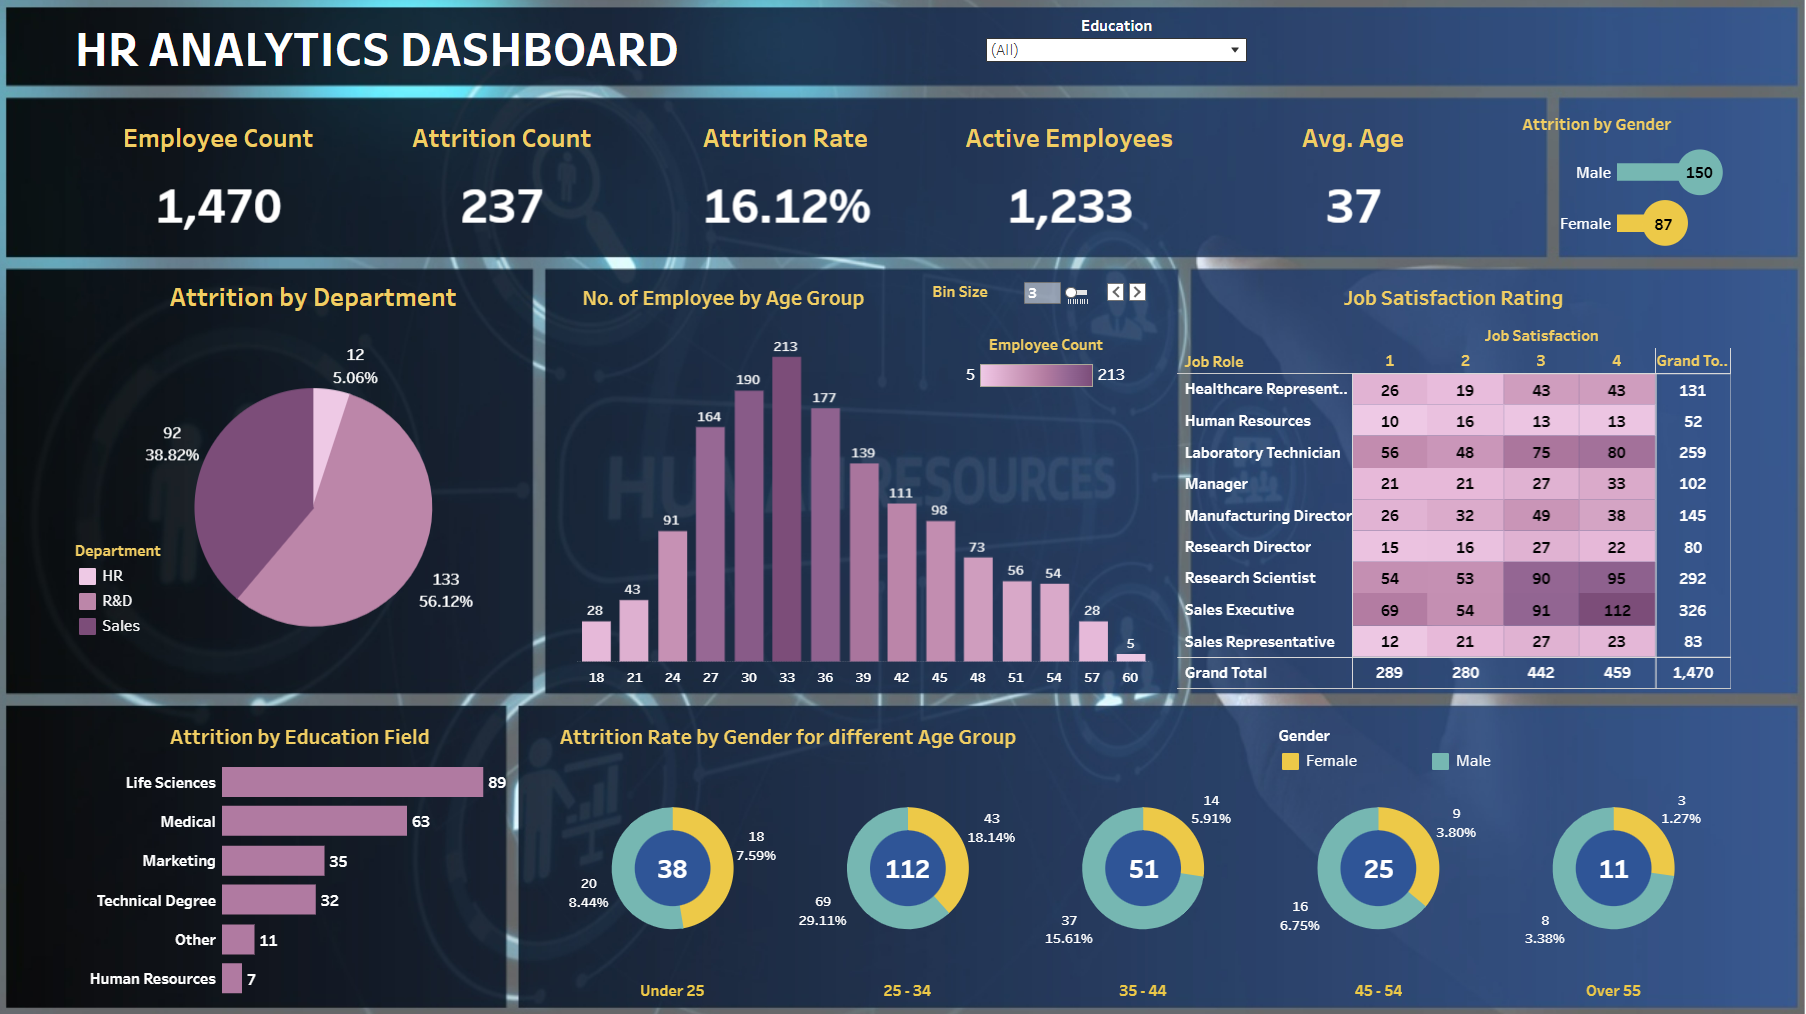

What the dashboard file says about the page in this screenshot:
{"tool":"tableau","page":{"name":"Dashboard","canvas":[1000,1000],"units":"permille","ordinal":0},"visuals":[{"type":"image","param":"Image/HR background.png","box":[5.1,10,989.9,980]},{"type":"filter","title":"Attrition by Department","param":"[federated.1hrytde1jcn6u712tr4z91f6a0fa].[none:Education:nk]","box":[543.7,28.7,137.3,63.6]},{"type":"text","box":[69.6,34.9,397.5,51.1]},{"type":"worksheet","title":"KPI","mark":"Automatic","box":[70.2,114.7,739.2,140.9]},{"type":"worksheet","title":"Attrition by Gender","mark":"Automatic","rows":["Gender"],"cols":["Calculation_0757612763443200","Calculation_0757612763443200"],"box":[820.9,114.7,109.5,137.2]},{"type":"worksheet","title":"Attrition by Department","mark":"Pie","box":[69,274.3,249.4,399]},{"type":"worksheet","title":"No. of Employee by Age Group","mark":"Automatic","rows":["Employee Count"],"cols":["Age (bin)"],"box":[331.7,278.1,298.1,392.8]},{"type":"worksheet","title":"Job Satisfaction Rating","mark":"Square","rows":["Job Role"],"cols":["Job Satisfaction"],"box":[643.7,278.1,288.6,395.3]},{"type":"parameter","param":"[Parameters].[Parameter 1]","box":[516.5,283,113.3,44.9]},{"type":"legend","title":"No. of Employee by Age Group","param":"[federated.1hrytde1jcn6u712tr4z91f6a0fa].[sum:Employee Count:qk]","box":[531,334.2,88.6,67.3]},{"type":"legend","title":"Attrition by Department","param":"[federated.1hrytde1jcn6u712tr4z91f6a0fa].[none:Department:nk]","box":[69.6,531.2,72.2,140.9]},{"type":"worksheet","title":"Attrition by Education Field","mark":"Automatic","rows":["Education Field"],"cols":["Calculation_0757612763443200"],"box":[68.4,698.2,236.7,270.6]},{"type":"worksheet","title":"Attrition Rate by Gender for different Age Group","mark":"Pie","rows":["Calculation_0757612857946117","Calculation_0757612857946117"],"cols":["CF_age band"],"box":[319.6,698.2,612.7,274.3]},{"type":"legend","title":"Attrition Rate by Gender for different Age Group","param":"[federated.1hrytde1jcn6u712tr4z91f6a0fa].[none:Gender:nk]","box":[696.8,708.2,201.9,48.6]}]}

Visuals, with their boxes on the dashboard's canvas, which has no fixed pixel size, in thousandths of its width and height (x1, y1, x2, y2). These are canvas units, not pixel positions in the 1806x1014 screenshot, which may show the page scaled, cropped or inside an application window:
image: rect(5, 10, 995, 990)
"Attrition by Department" filter: rect(544, 29, 681, 92)
text: rect(70, 35, 467, 86)
"KPI" worksheet: rect(70, 115, 809, 256)
"Attrition by Gender" worksheet: rect(821, 115, 930, 252)
"Attrition by Department" worksheet (Pie marks): rect(69, 274, 318, 673)
"No. of Employee by Age Group" worksheet: rect(332, 278, 630, 671)
"Job Satisfaction Rating" worksheet (Square marks): rect(644, 278, 932, 673)
parameter: rect(516, 283, 630, 328)
"No. of Employee by Age Group" legend: rect(531, 334, 620, 402)
"Attrition by Department" legend: rect(70, 531, 142, 672)
"Attrition by Education Field" worksheet: rect(68, 698, 305, 969)
"Attrition Rate by Gender for different Age Group" worksheet (Pie marks): rect(320, 698, 932, 972)
"Attrition Rate by Gender for different Age Group" legend: rect(697, 708, 899, 757)
